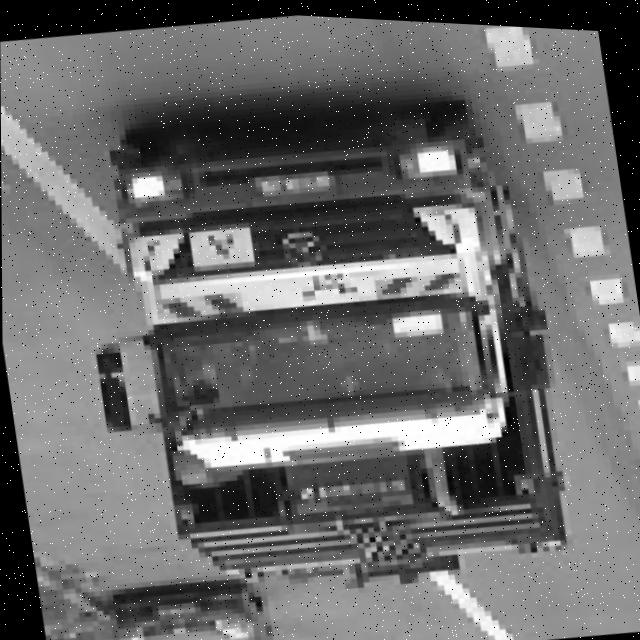truck: (70, 72, 573, 532)
